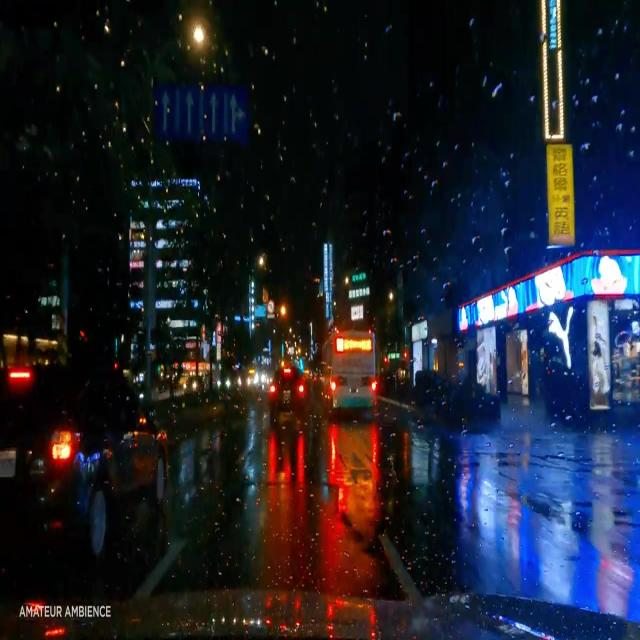Car: (3, 369, 166, 552), (268, 366, 307, 418)
